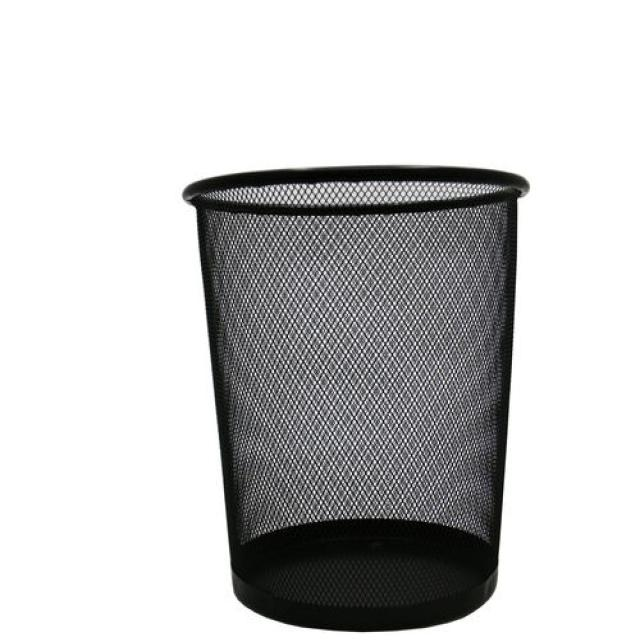dustbin: (179, 155, 537, 636)
